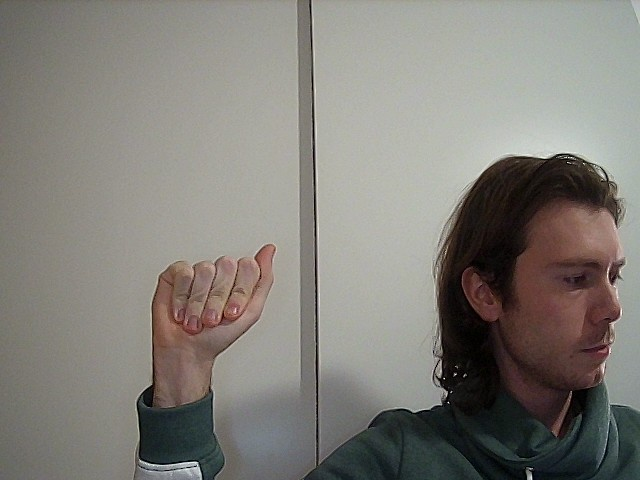a: (139, 236, 289, 364)
